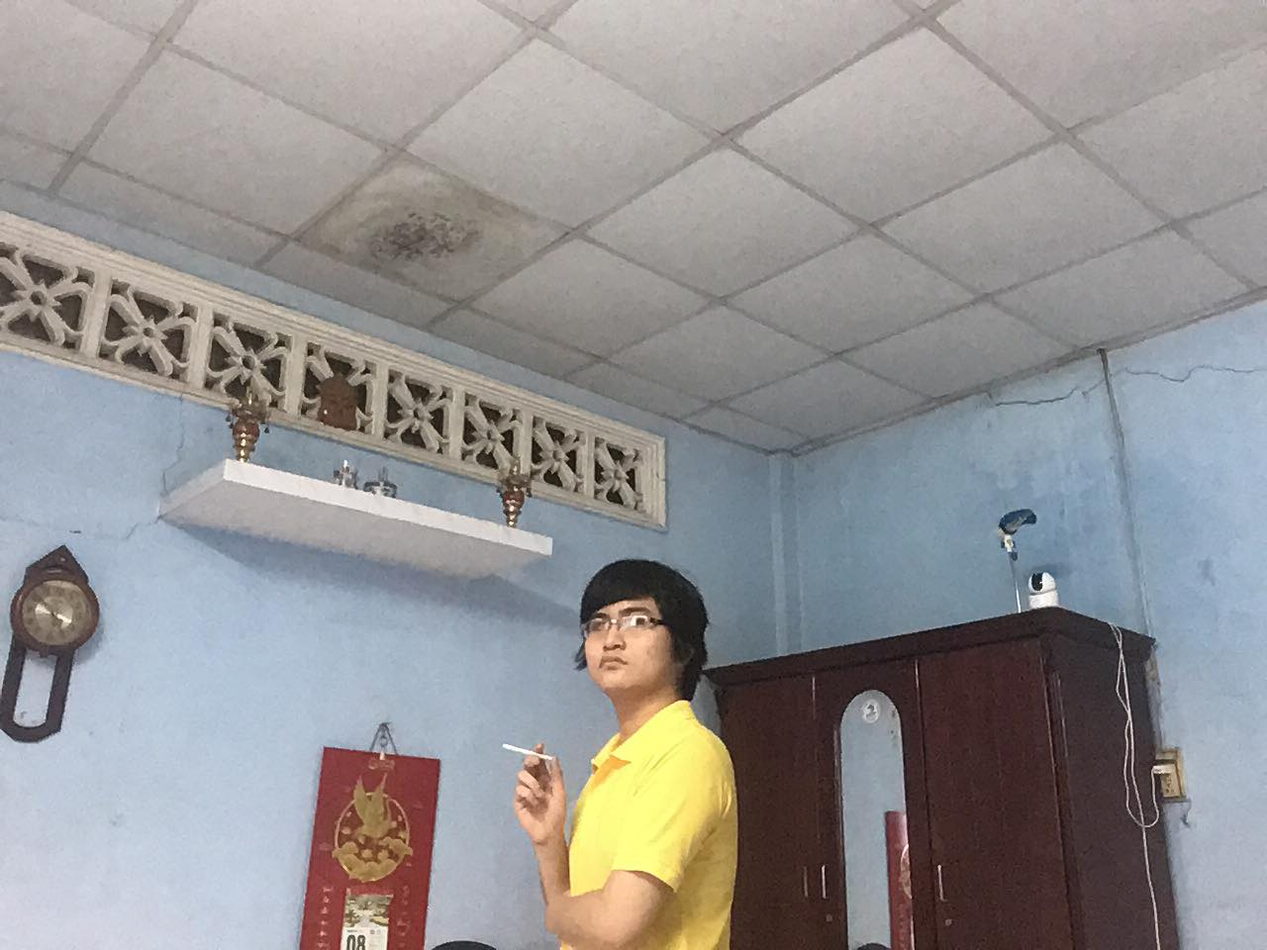cigarette: (496, 738, 535, 758)
person: (496, 558, 737, 949)
